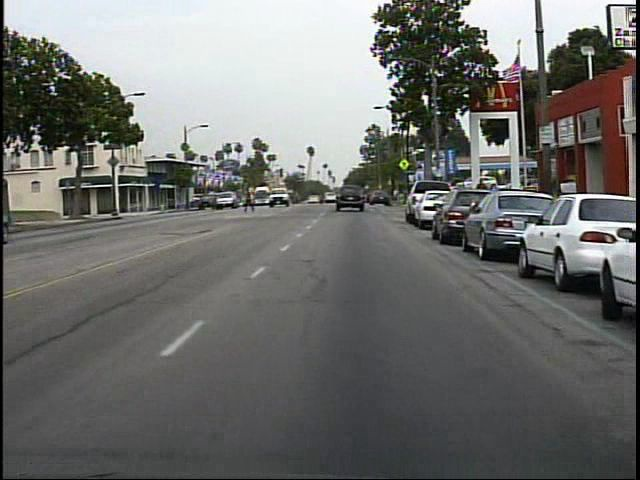person: (471, 174, 491, 217), (241, 182, 260, 214)
